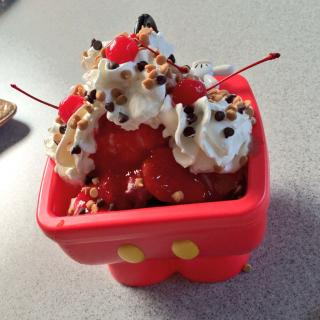Ice cream: (47, 38, 289, 245), (81, 26, 192, 130)
